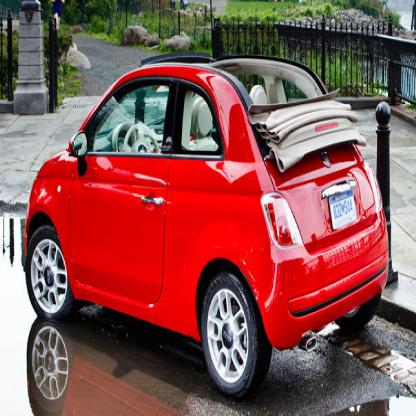Vehicle: (22, 57, 392, 399)
